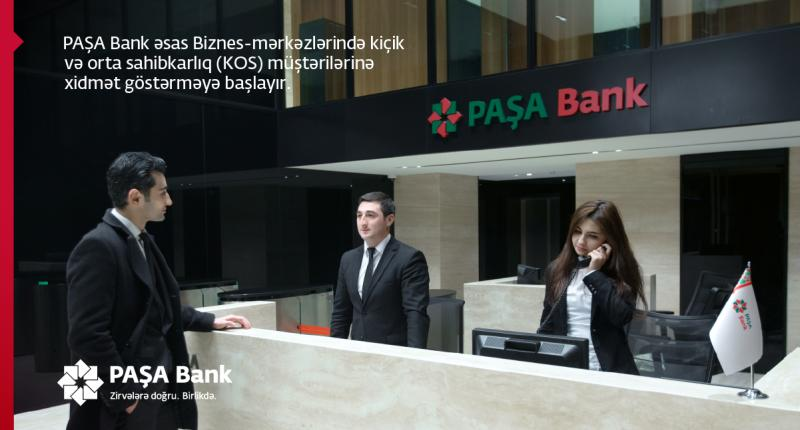Pasha Bank: (55, 356, 105, 409), (426, 95, 466, 141)
